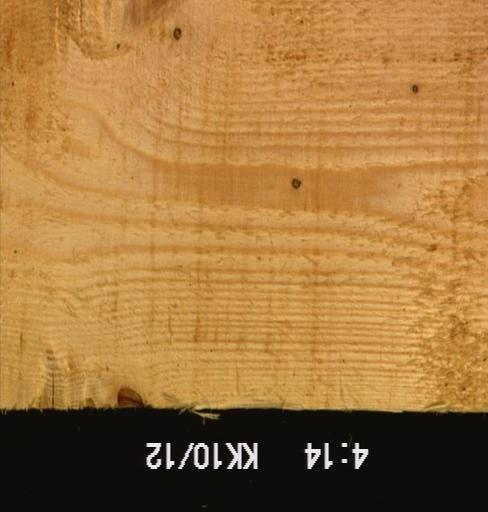dry_knot: (406, 79, 421, 100), (288, 174, 304, 193), (171, 24, 185, 44)
